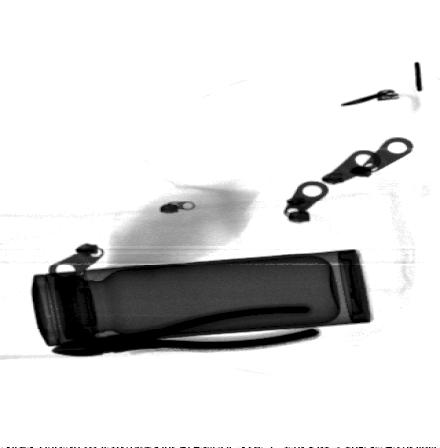Pliers: (49, 305, 322, 358)
